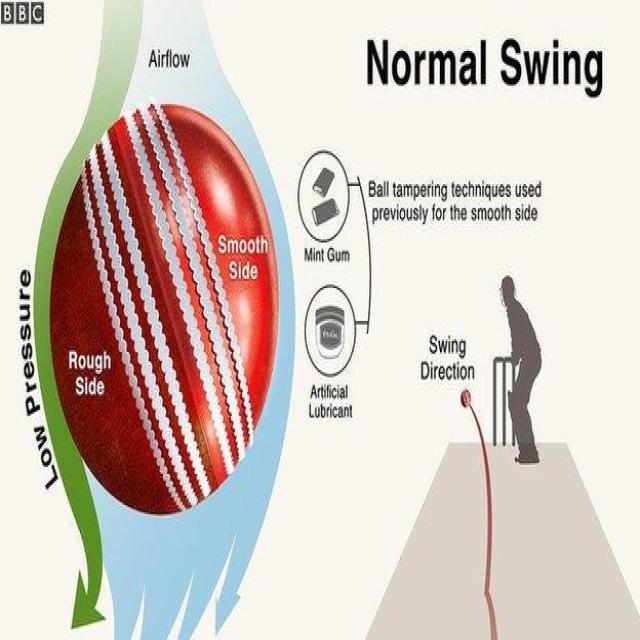ball: (50, 97, 283, 518)
